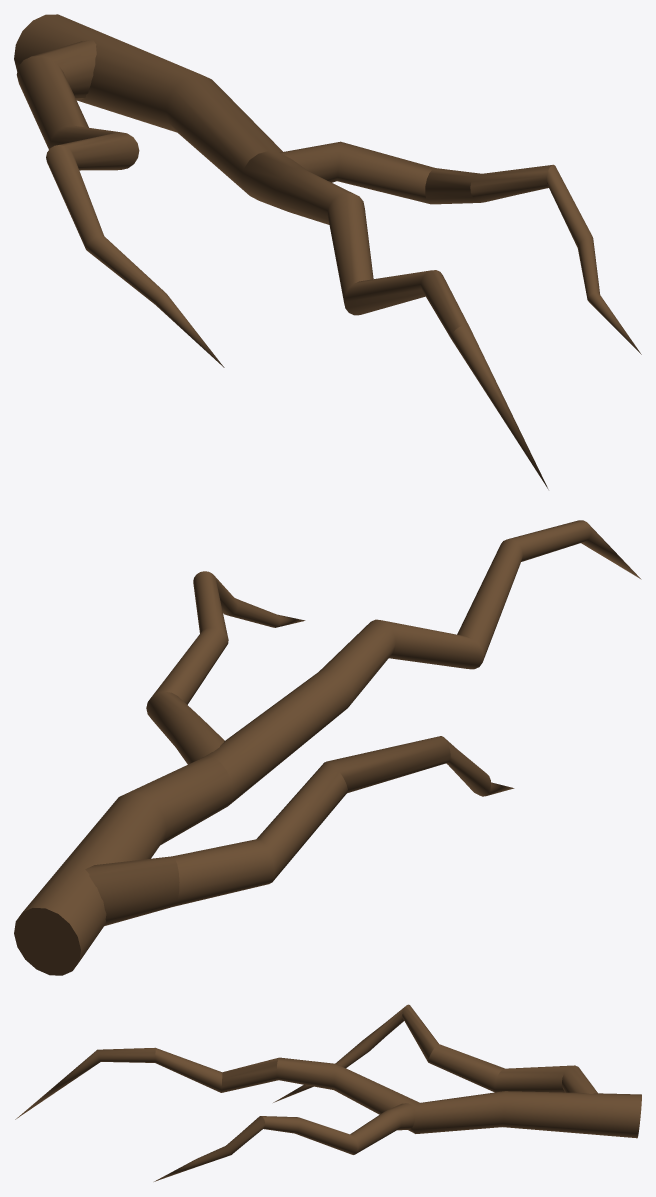
The model's file is Sm_Branches3L.fbx.
3 views of the same model, one above another, from view 1: azimuth 30°, elevation 25°; view 2: azimuth 150°, elevation 25°; view 3: azimuth 270°, elevation 25° (orthographic). The views are drawn at different scales.
Visible parts, largest first — view 1: Sm_Branches3L; view 2: Sm_Branches3L; view 3: Sm_Branches3L.
Boxes of the visible parts, box(x1,y1,x2,y2) form: Sm_Branches3L: box(14, 14, 641, 489); Sm_Branches3L: box(14, 520, 641, 975); Sm_Branches3L: box(15, 1004, 641, 1181).
Size of the model in its own units: 51.89 by 19.06 by 127.
